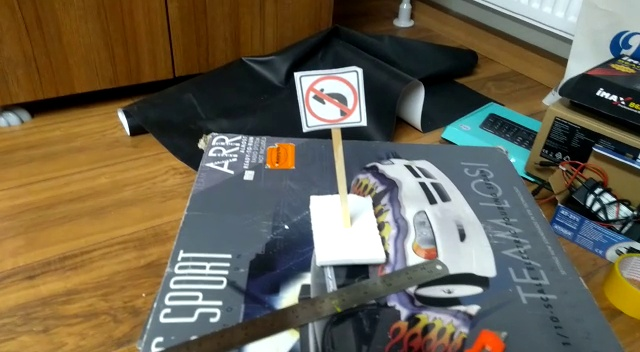sola_donulmez: (303, 75, 362, 122)
